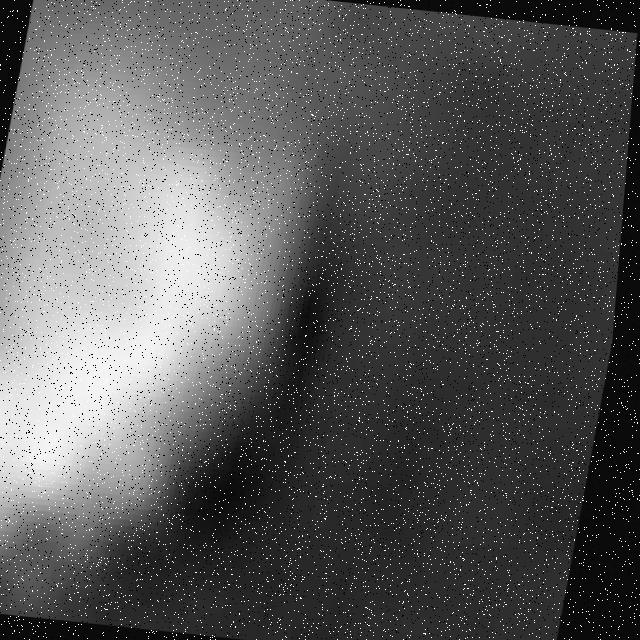person: (1, 1, 345, 638)
